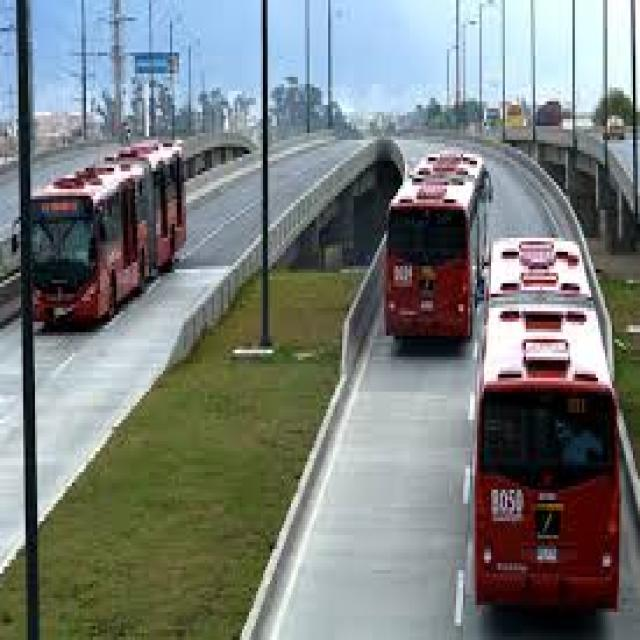BUS: (475, 282, 627, 625), (384, 166, 479, 358), (27, 177, 119, 328)
